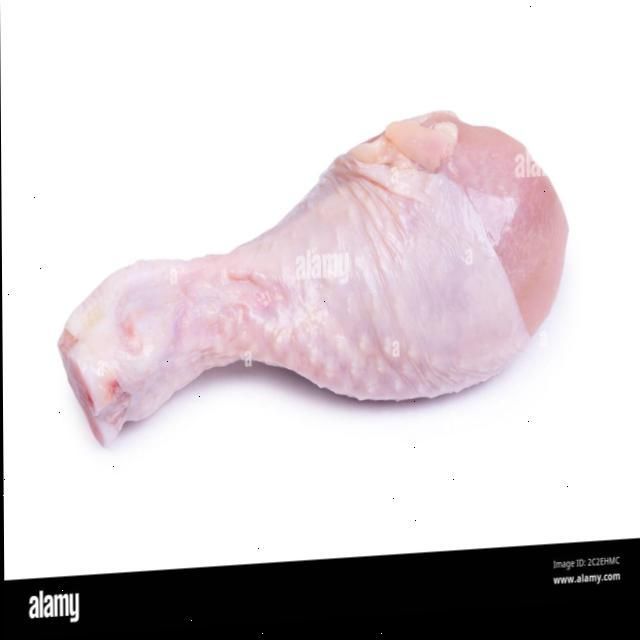leg: (58, 112, 574, 466)
